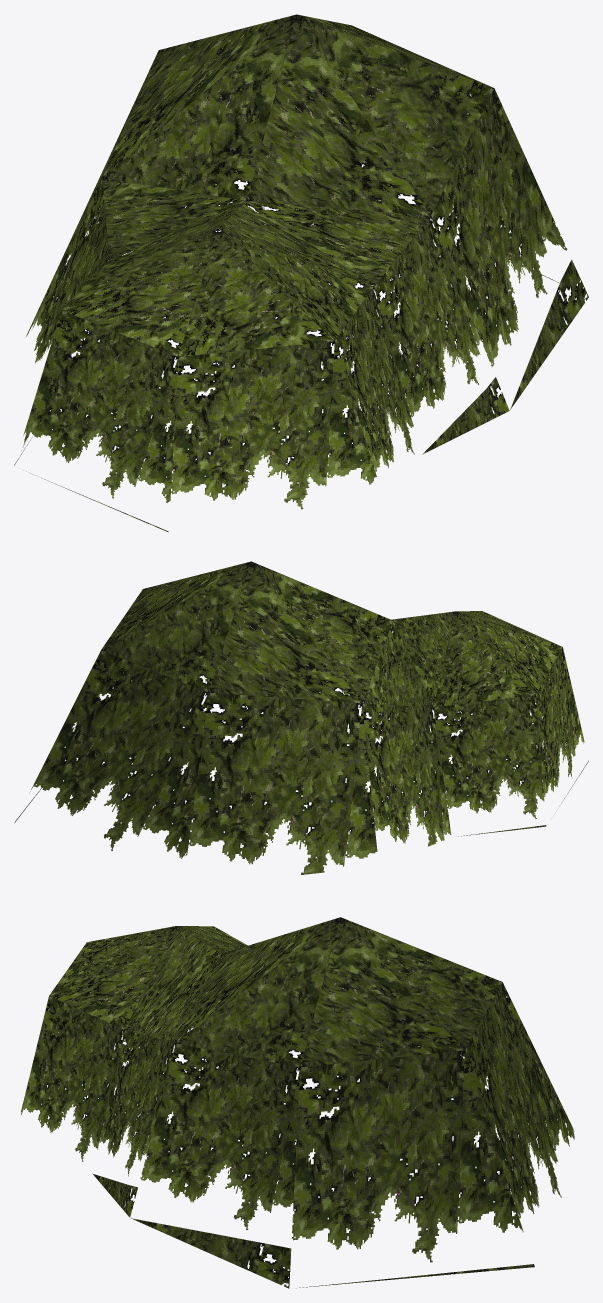
3 renders of one model, top to bottom at view 1: azimuth 30°, elevation 25°; view 2: azimuth 150°, elevation 25°; view 3: azimuth 270°, elevation 25°, orthographic. The views are drawn at different scales.
Parts seen in each view (by area): view 1: model; view 2: model; view 3: model.
Boxes of the visible parts, box(x1,y1,x2,y2) form: model: box(14, 14, 588, 532); model: box(14, 561, 588, 874); model: box(21, 917, 574, 1288).
Bounding box in the file's own units: 1.66 × 0.8516 × 1.66.
Materials: 1 (1 with a texture image).
